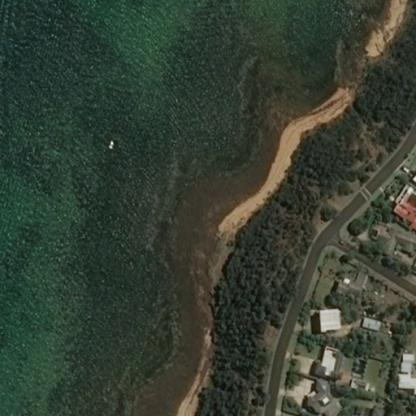ship: (108, 123, 113, 132)
